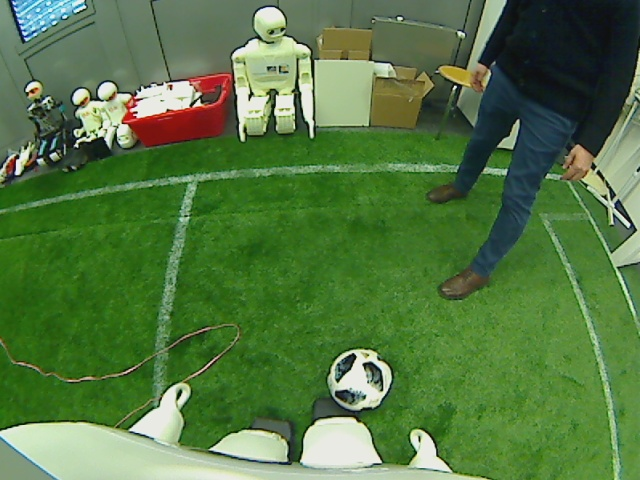ball: (325, 344, 394, 415)
